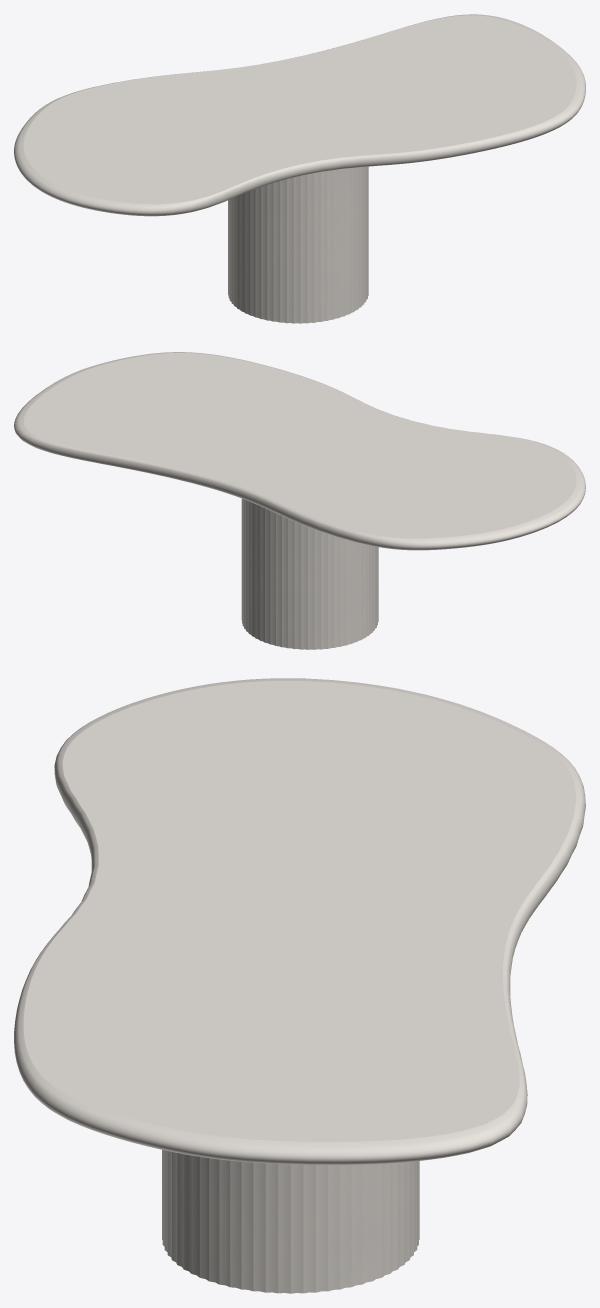
File: pearlwhite_wave_round_ripple.glb
The picture shows the model from 3 angles, top to bottom: view 1: azimuth 30°, elevation 25°; view 2: azimuth 150°, elevation 25°; view 3: azimuth 270°, elevation 25°; orthographic projection. The views are drawn at different scales.
Parts seen in each view (by area): view 1: round_wave, ripple; view 2: round_wave, ripple; view 3: round_wave, ripple.
Boxes of the visible parts, x1,y1,x2,y2 form: round_wave: (14, 14, 585, 216); ripple: (228, 166, 368, 323); round_wave: (14, 352, 585, 550); ripple: (241, 498, 378, 649); round_wave: (14, 678, 585, 1164); ripple: (162, 1150, 419, 1293).
Size of the model in its own units: 7.76 by 2.5 by 3.93.
Materials: 1 (1 with a texture image).
